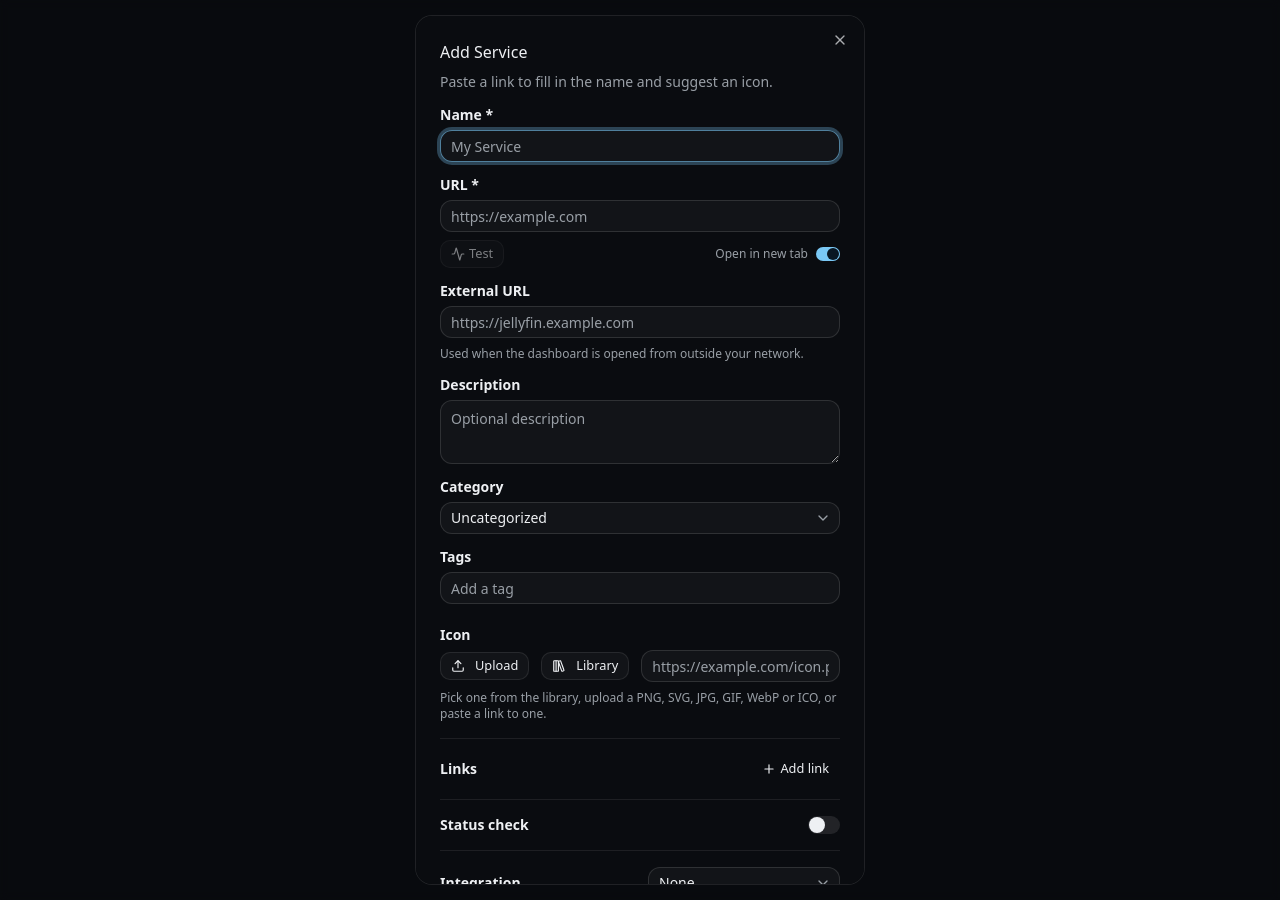
it: ServiceDialog › searches the icon library, credits both sources, and explains outages
This screenshot has width=1280, height=900.
Step 1. Click the button "Library" → x=585, y=666, box [541, 652, 629, 680]
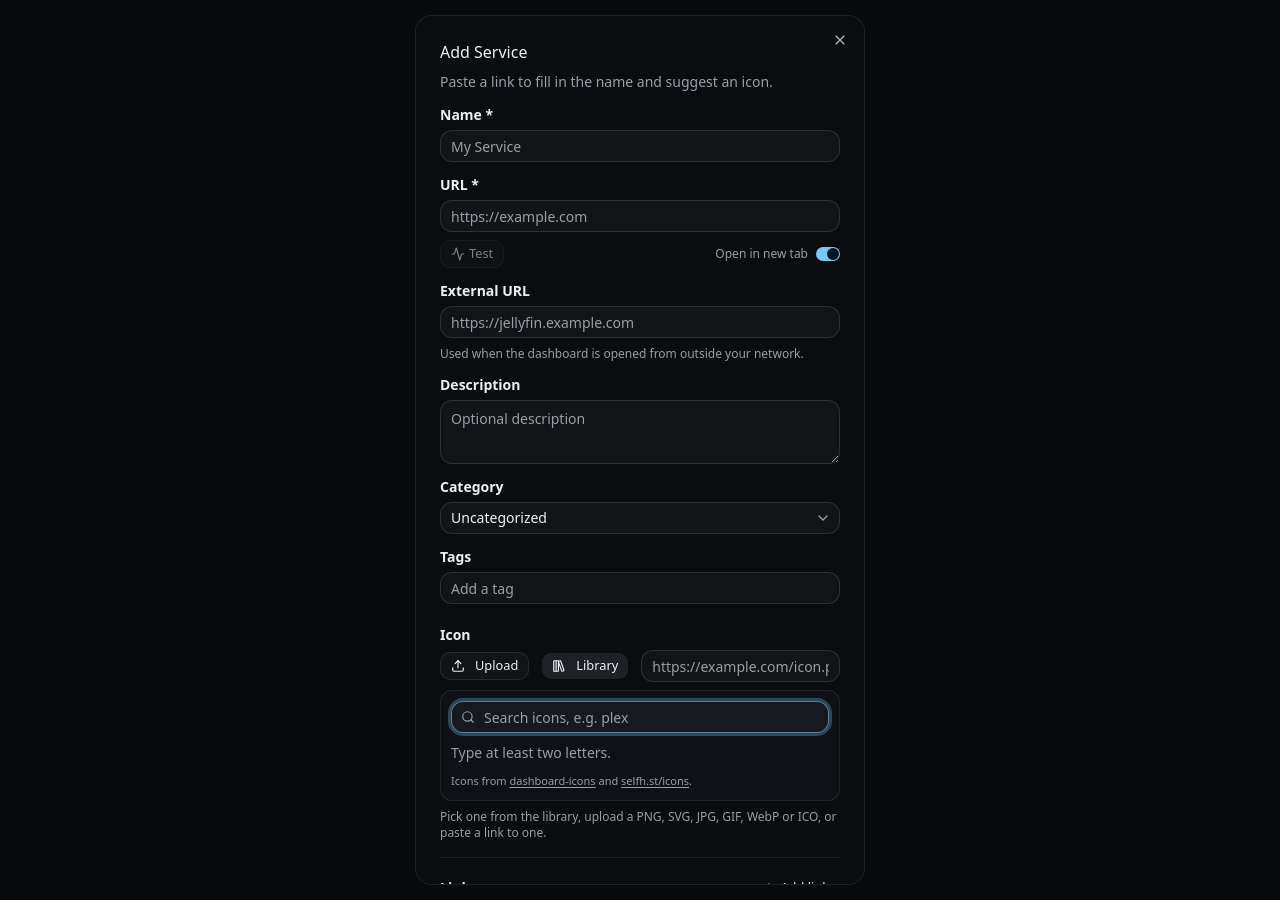
Expected: the text "Type at least two letters." is shown, [451, 743, 611, 762]
Expected: the link "selfh.st/icons" is shown, [621, 773, 689, 788]
Step 2. Type "pl" into the search field named "Search the icon library" → x=640, y=717, box [451, 701, 829, 733]
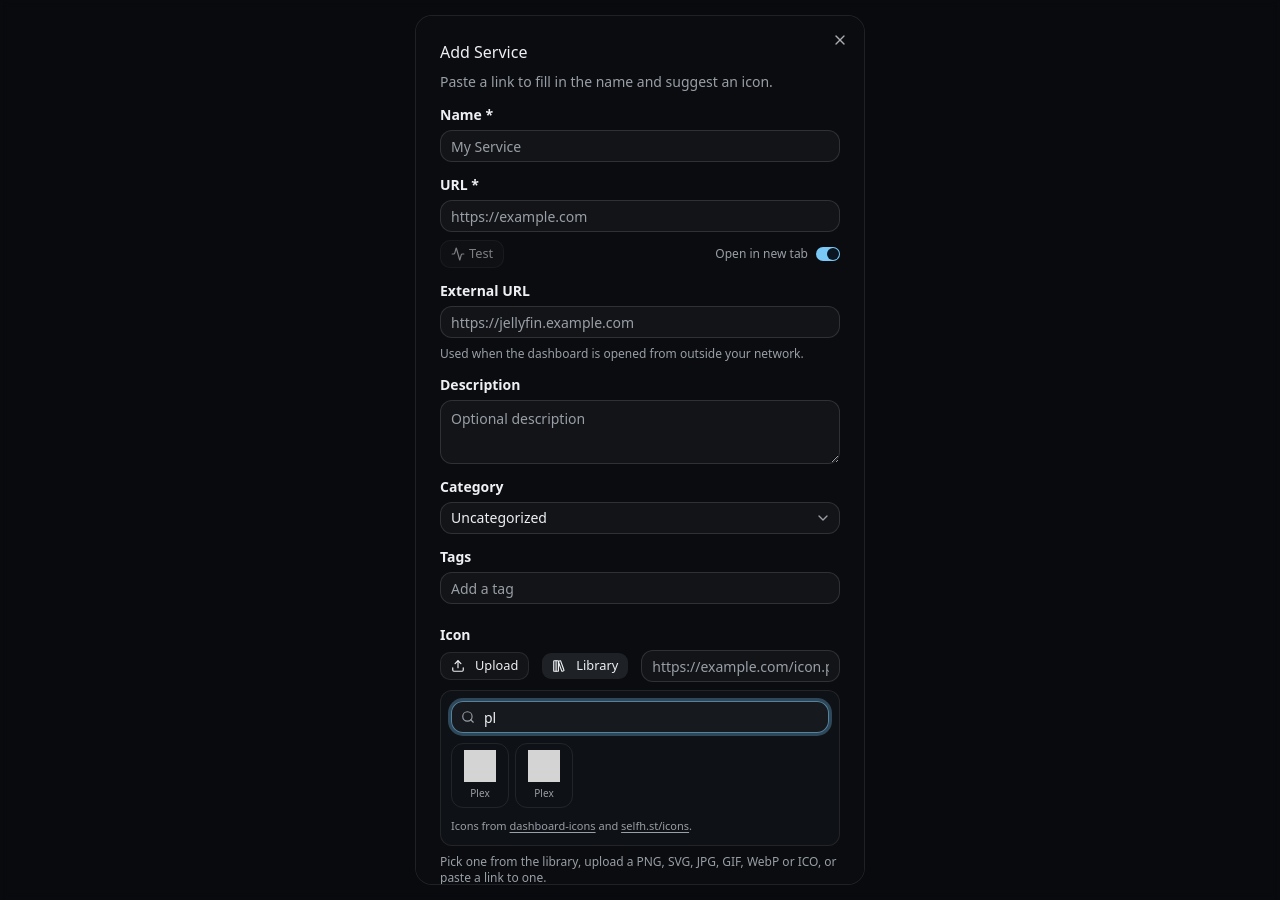
Step 3. Click the button with aria-label "Use the Plex icon from selfh.st" → x=544, y=776, box [515, 743, 573, 808]
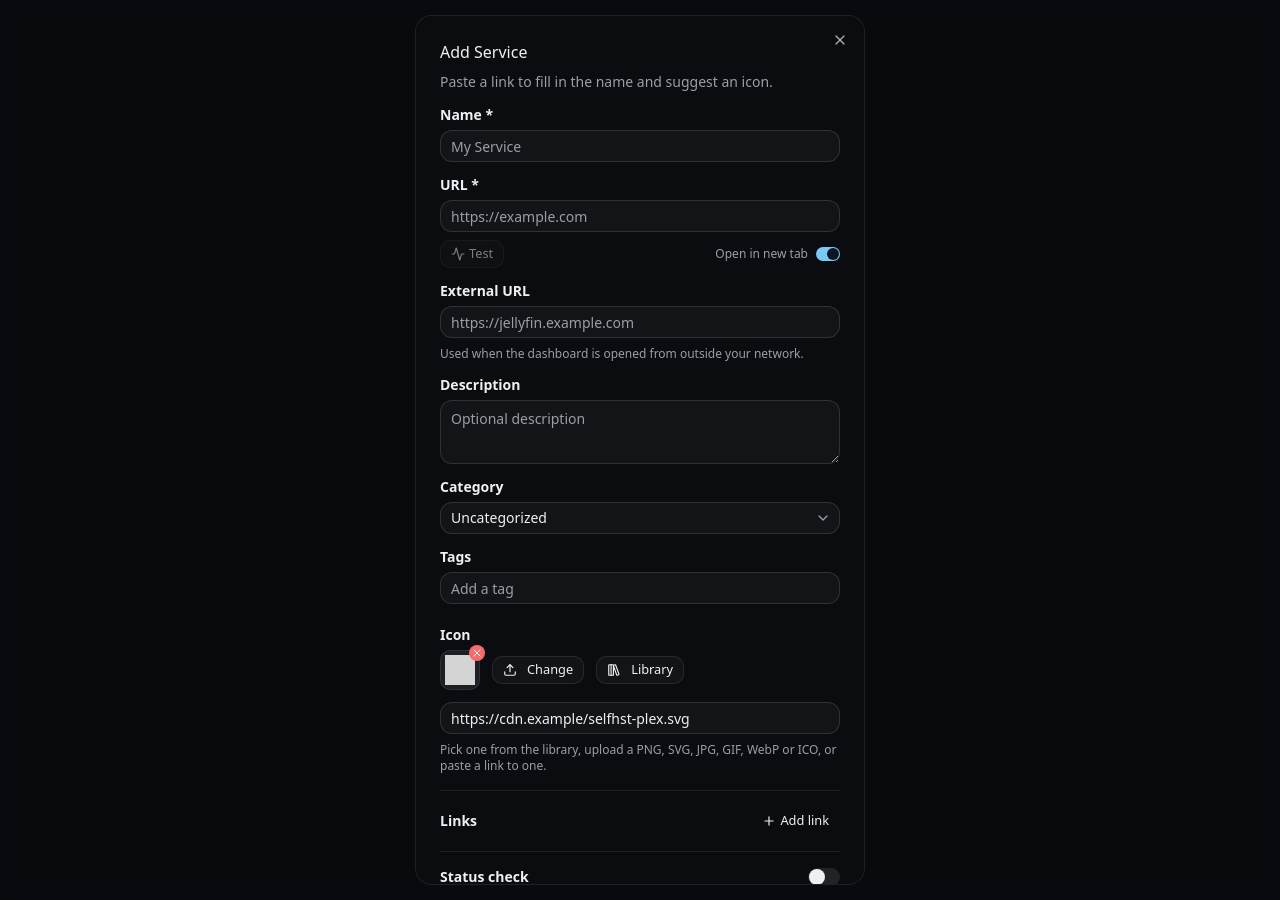
Expected: the field named "Icon URL" holds "https://cdn.example/selfhst-plex.svg", [440, 702, 840, 734]
Step 4. Click the button "Library" → x=640, y=670, box [596, 656, 684, 684]
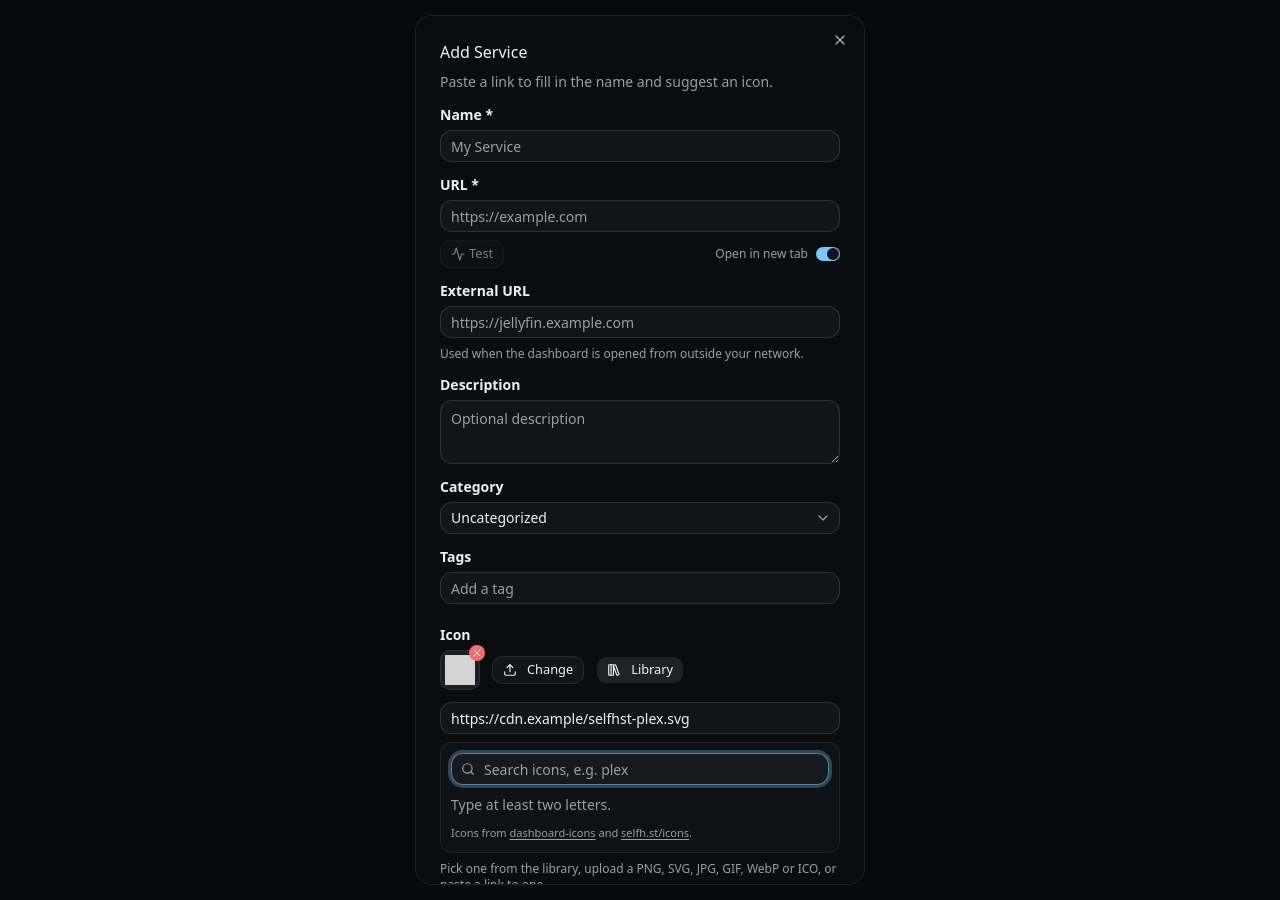
Step 5. Type "zz" into the search field named "Search the icon library" → x=640, y=769, box [451, 753, 829, 785]
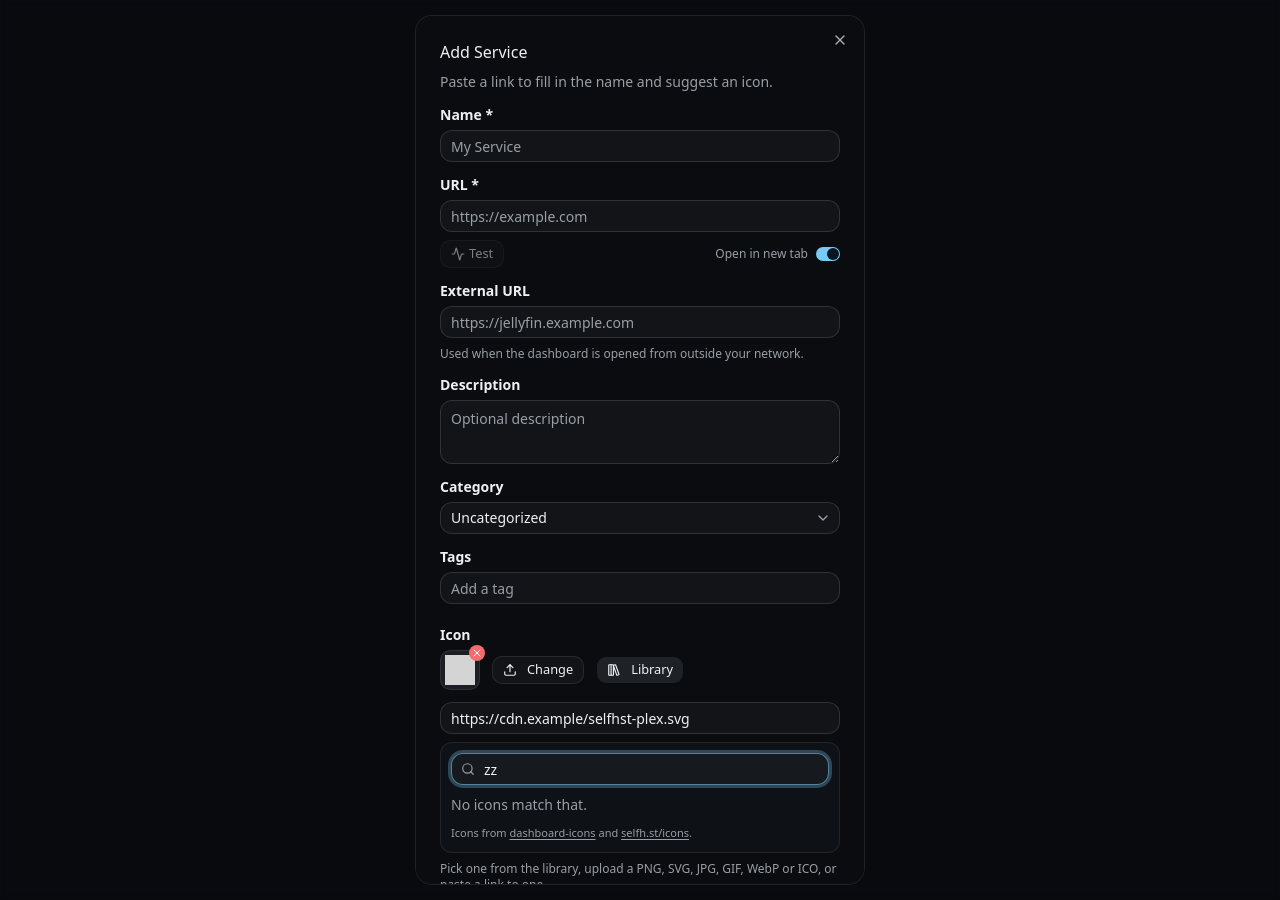
Expected: the text "No icons match that." is shown, [451, 795, 587, 814]
Step 6. Type "x" into the search field named "Search the icon library" → x=640, y=769, box [451, 753, 829, 785]
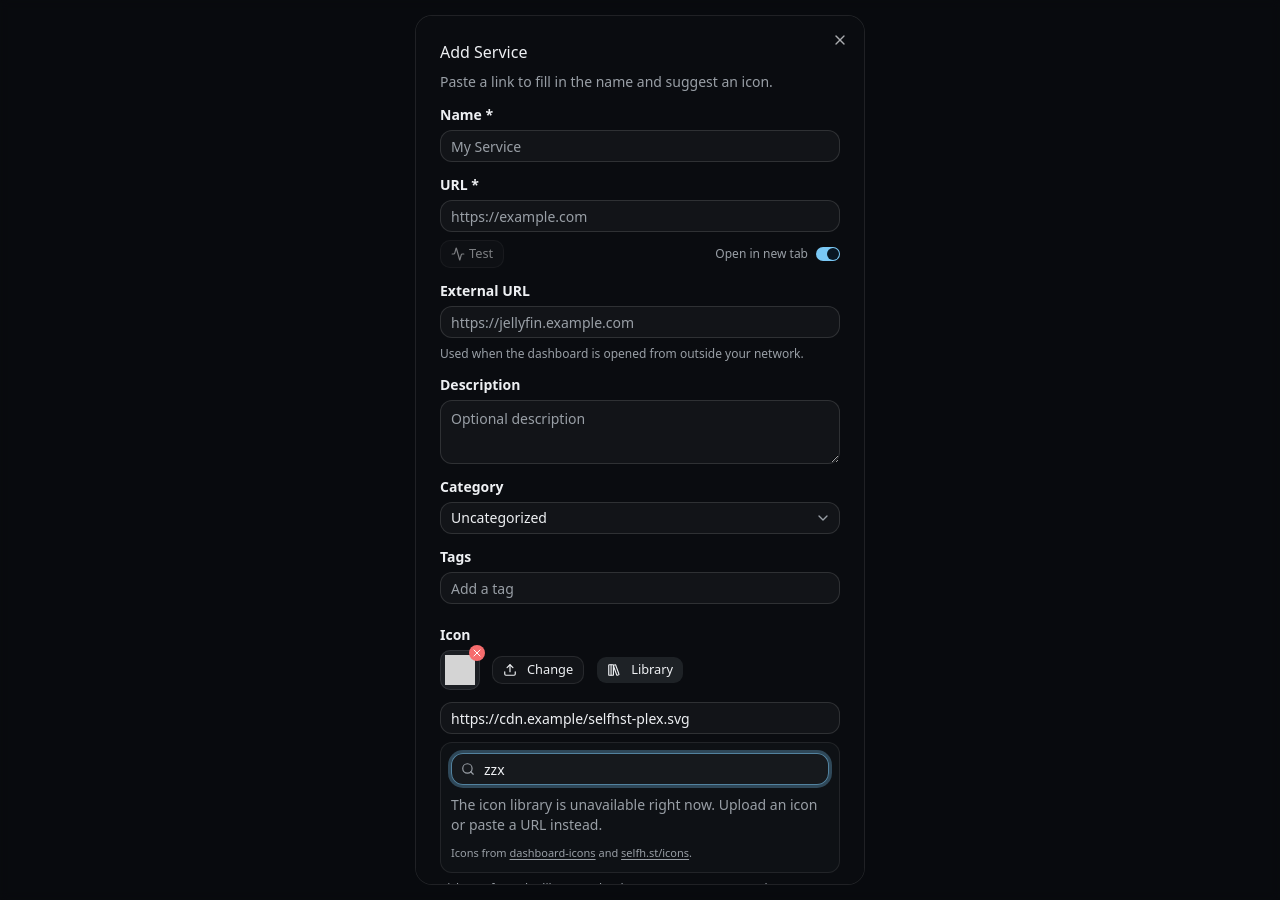
Expected: the message shows "The icon library is unavailable right now", [451, 795, 817, 834]
